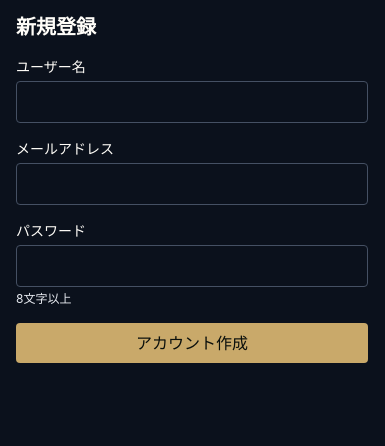
Scenario: SignupForm › email 形式が不正では API を呼ばない
Type "tester" into the field below "ユーザー名" at (192, 102), box [16,81,368,123]
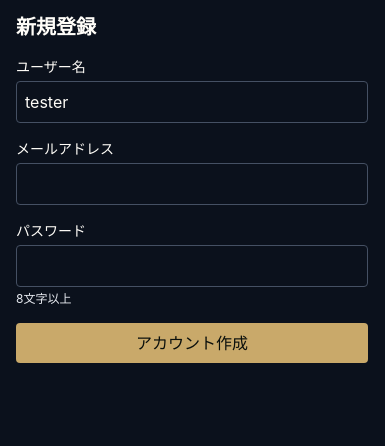
Type "not-an-email" into the field below "メールアドレス" at (192, 184), box [16,163,368,205]
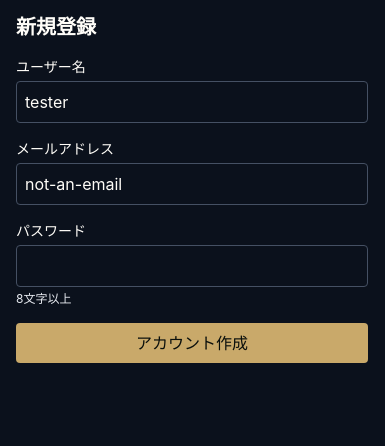
Type "password123" into the password field at (192, 266), box [16,245,368,287]
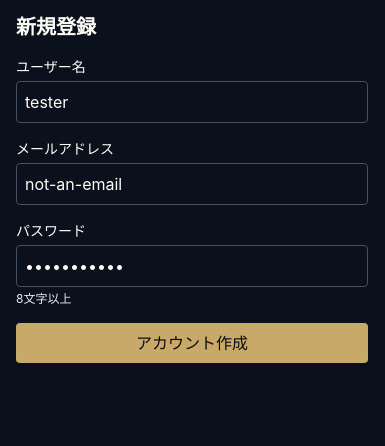
Click the button "アカウント作成" at (192, 343), box [16,323,368,363]
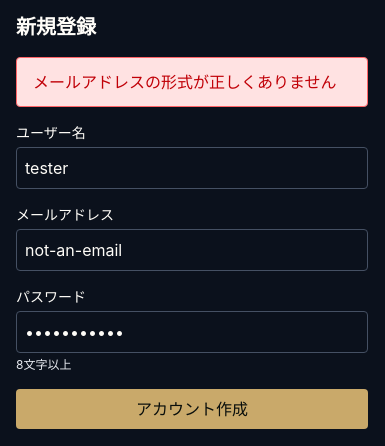
Check: the text "メールアドレスの形式が正しくありません" is shown, box [16,57,368,107]
